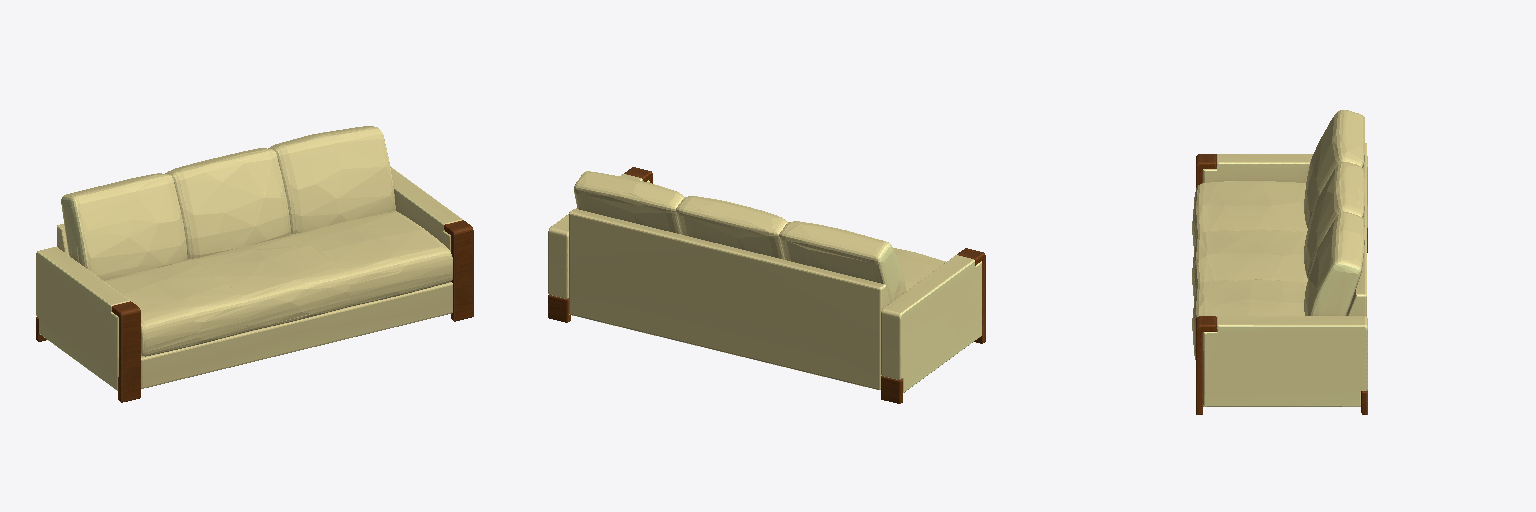
3 renders of one model, left to right at view 1: azimuth 30°, elevation 25°; view 2: azimuth 150°, elevation 25°; view 3: azimuth 270°, elevation 25°, orthographic.
Visible parts, largest first — view 1: solid_001, solid_002; view 2: solid_001, solid_002; view 3: solid_001, solid_002.
Part boxes in pixels (left/top/right/bottom): solid_001: left=36, top=126, right=462, bottom=390; solid_002: left=36, top=220, right=473, bottom=402; solid_001: left=548, top=171, right=981, bottom=392; solid_002: left=548, top=167, right=985, bottom=403; solid_001: left=1192, top=110, right=1367, bottom=406; solid_002: left=1196, top=154, right=1367, bottom=414.
Size of the model in its own units: 2.23 by 0.8888 by 0.9609.
Materials: 1 (1 with a texture image).